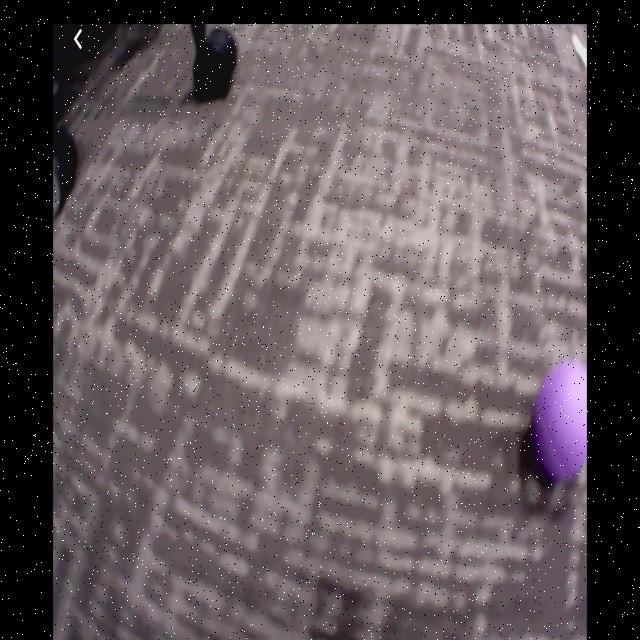ball: (532, 358, 588, 485)
